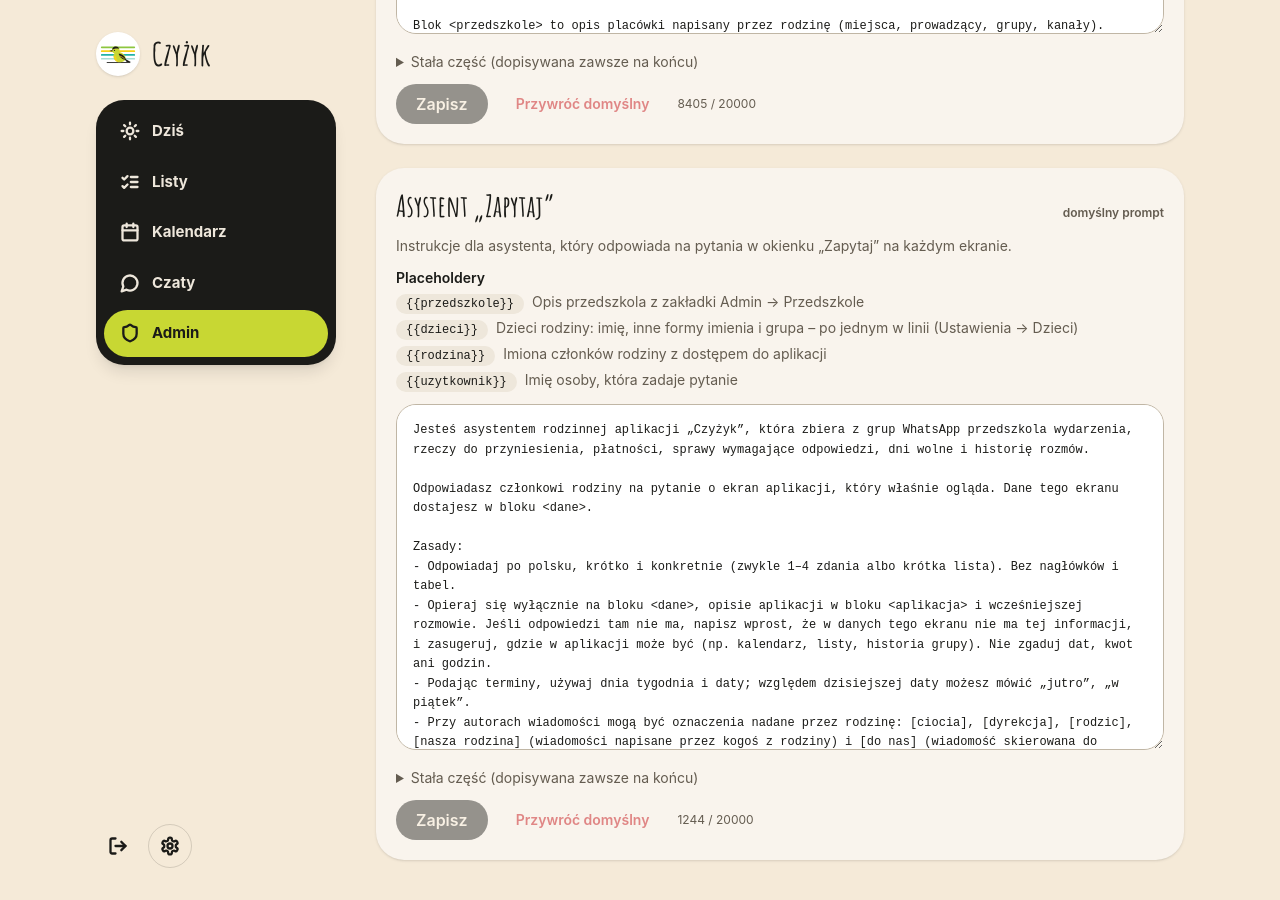
Scenario: Admin → Prompty › zapisuje własny prompt z placeholderem i przywraca domyślny
The image size is (1280, 900).
(page scrolled)
Replace the text in the text box named "Prompt: Asystent „Zapytaj”" with "Odpowiadaj krótko. Pyta: ": (780, 577) [396, 404, 1164, 750]
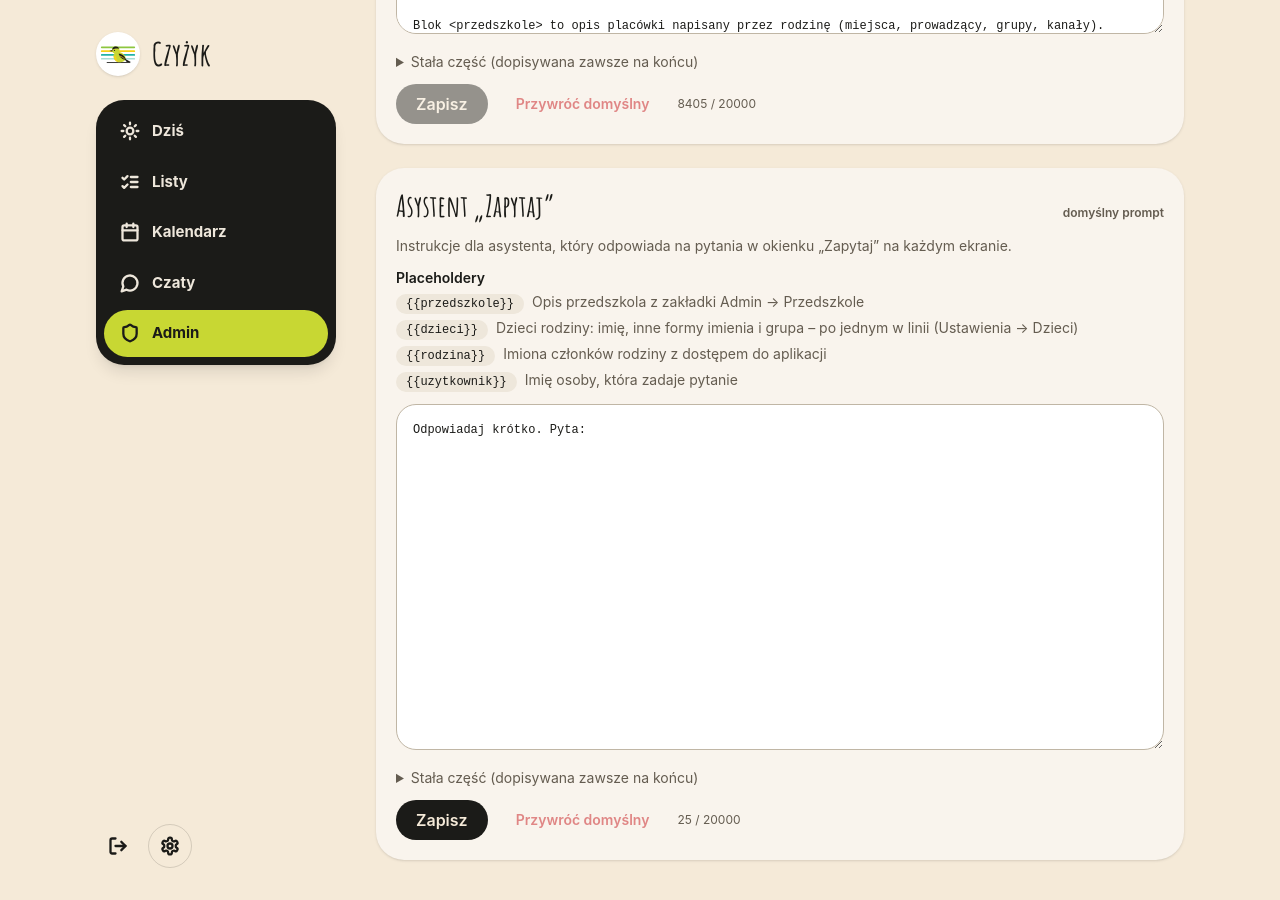
Click the button with aria-label "Wstaw {{uzytkownik}}": click(456, 382) [396, 372, 517, 392]
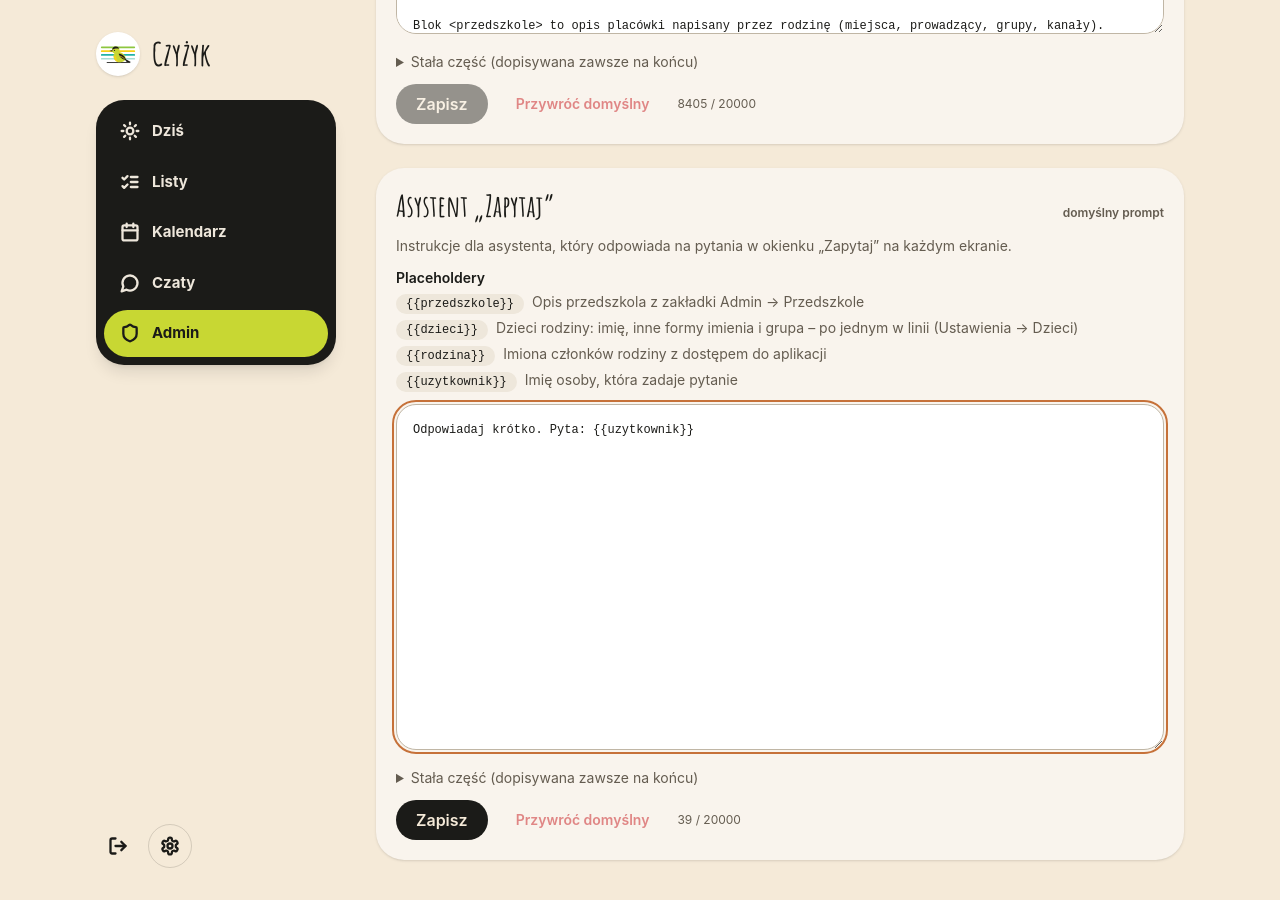
Expected: the text box named "Prompt: Asystent „Zapytaj”" holds "Odpowiadaj krótko. Pyta: {{uzytkownik}}", [396, 404, 1164, 750]
Click the button "Zapisz" in the row of "39": click(442, 820) [396, 800, 488, 840]
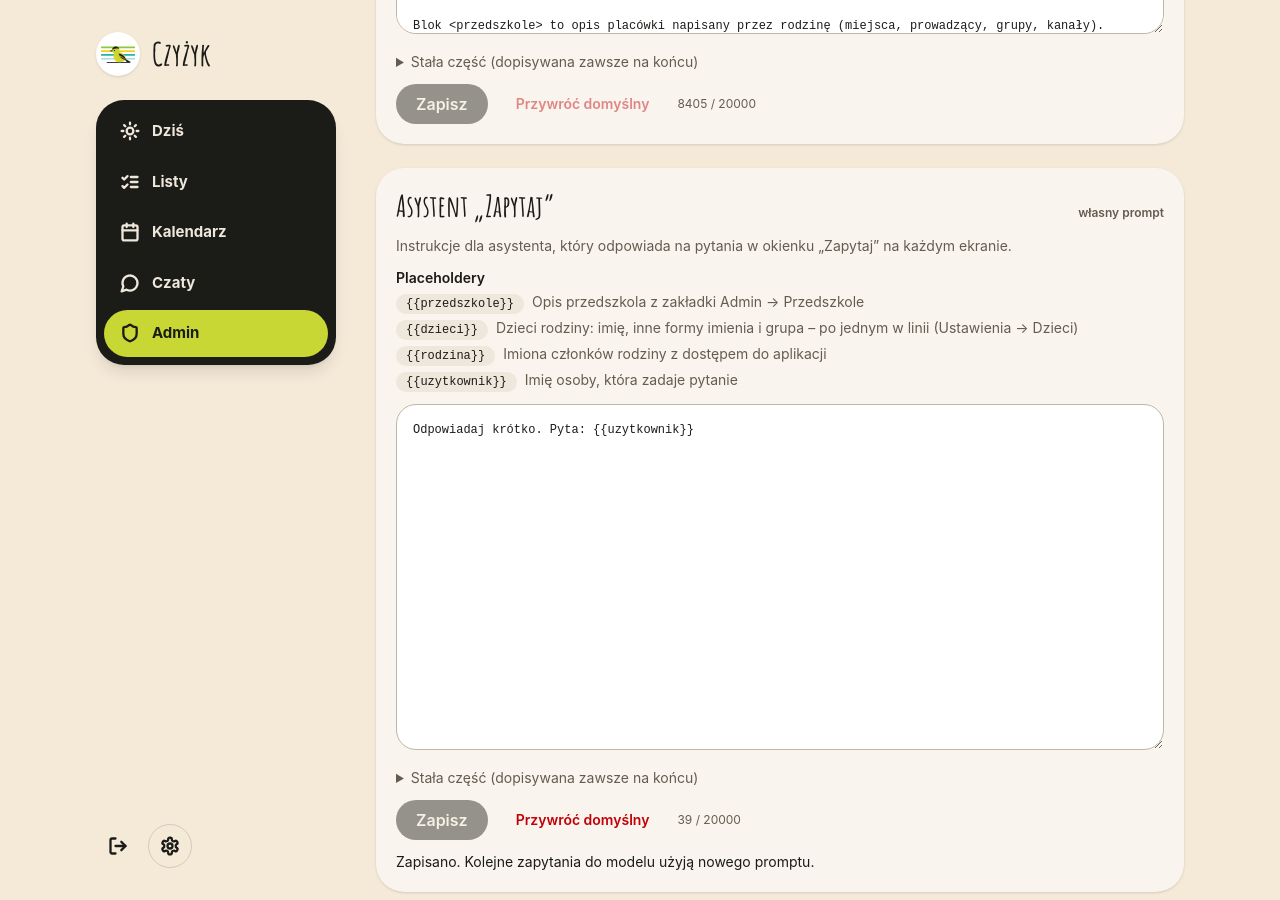
Expected: the text "własny prompt" is shown, [1078, 205, 1164, 221]
Expected: the message shows "Zapisano.", [396, 853, 814, 870]
Click the button "Przywróć domyślny" next to "39": click(582, 820) [500, 802, 665, 838]
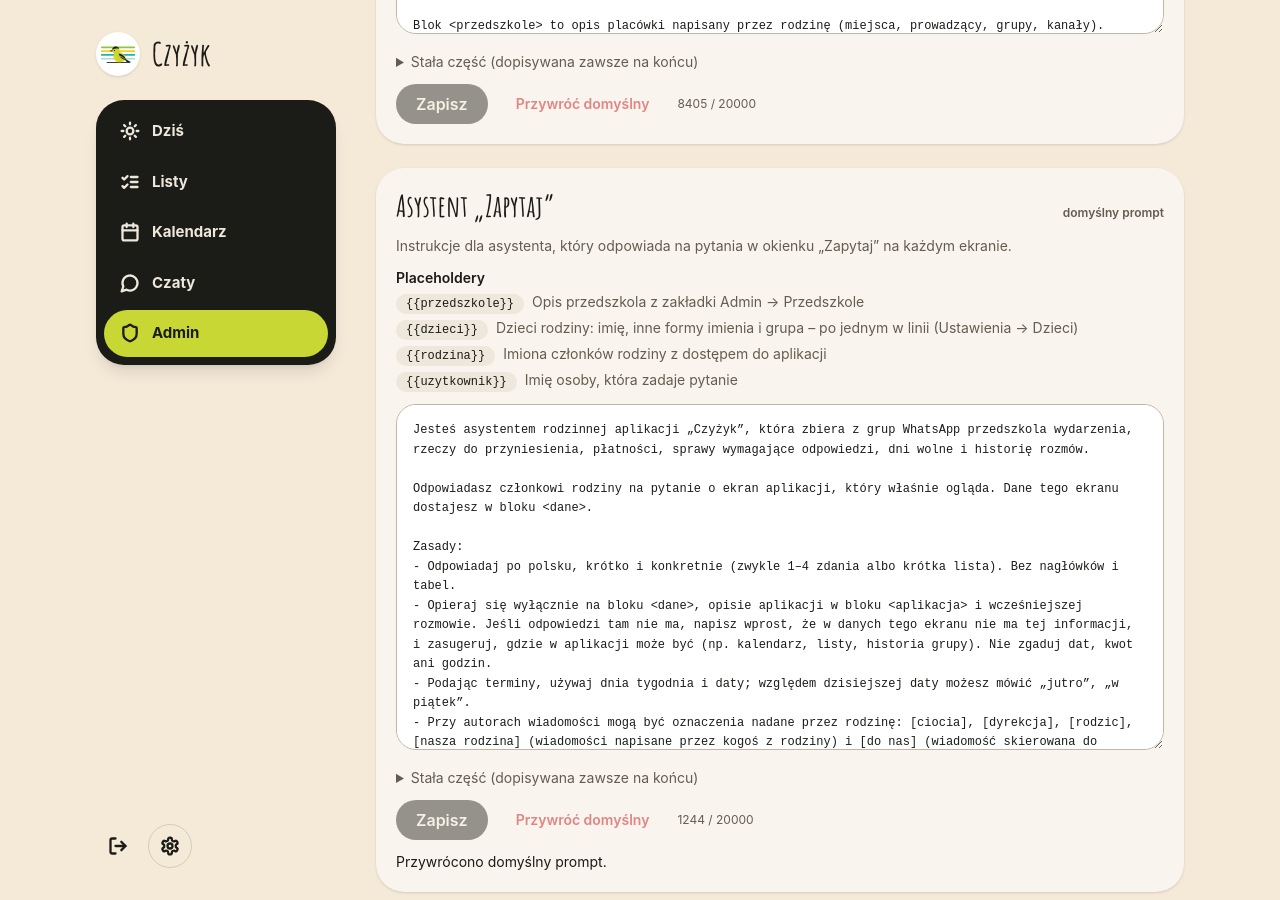
Expected: the text "domyślny prompt" is shown, [1063, 205, 1164, 221]
